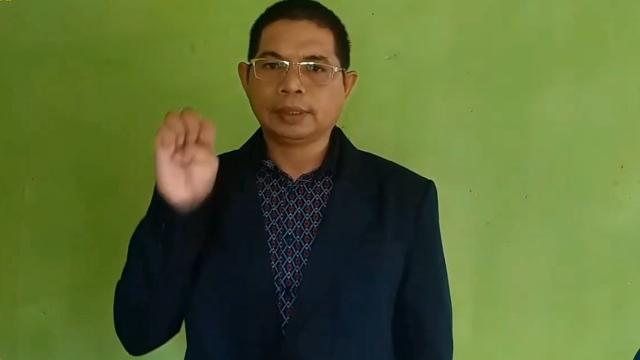E: (153, 105, 220, 206)
